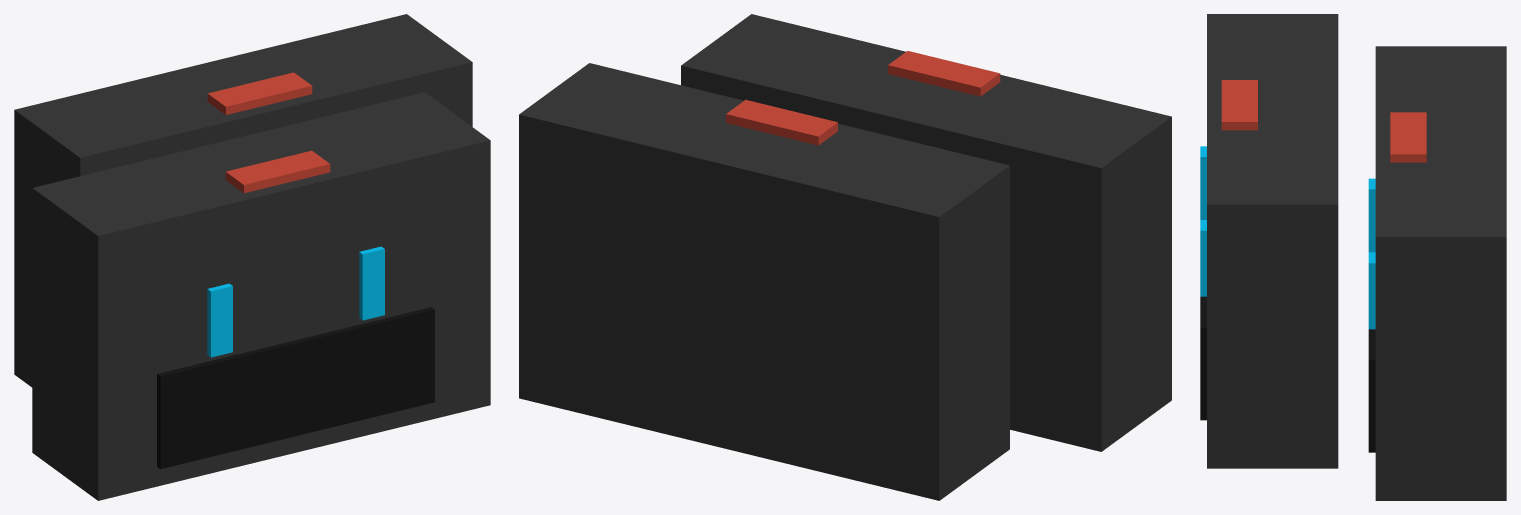
Rendered from ce_ammo2_railhc_sabot_b.obj.
3 views of the same model, side by side, from view 1: azimuth 30°, elevation 25°; view 2: azimuth 150°, elevation 25°; view 3: azimuth 270°, elevation 25° (orthographic). The views are drawn at different scales.
Parts seen in each view (by area): view 1: ce_ammo2_railhc_sabot_b_5, ce_ammo2_railhc_sabot_b_0, ce_ammo2_railhc_sabot_b_7, ce_ammo2_railhc_sabot_b_1, ce_ammo2_railhc_sabot_b_6, ce_ammo2_railhc_sabot_b_9, ce_ammo2_railhc_sabot_b_8; view 2: ce_ammo2_railhc_sabot_b_0, ce_ammo2_railhc_sabot_b_5, ce_ammo2_railhc_sabot_b_6, ce_ammo2_railhc_sabot_b_1; view 3: ce_ammo2_railhc_sabot_b_0, ce_ammo2_railhc_sabot_b_5, ce_ammo2_railhc_sabot_b_1, ce_ammo2_railhc_sabot_b_6, ce_ammo2_railhc_sabot_b_2, ce_ammo2_railhc_sabot_b_7, ce_ammo2_railhc_sabot_b_4, ce_ammo2_railhc_sabot_b_3, ce_ammo2_railhc_sabot_b_9, ce_ammo2_railhc_sabot_b_8.
Boxes of the visible parts, bbox=[...] form: ce_ammo2_railhc_sabot_b_5: bbox=[32, 92, 490, 500]; ce_ammo2_railhc_sabot_b_0: bbox=[14, 14, 472, 387]; ce_ammo2_railhc_sabot_b_7: bbox=[157, 307, 434, 469]; ce_ammo2_railhc_sabot_b_1: bbox=[207, 72, 312, 114]; ce_ammo2_railhc_sabot_b_6: bbox=[225, 150, 330, 193]; ce_ammo2_railhc_sabot_b_9: bbox=[359, 246, 384, 320]; ce_ammo2_railhc_sabot_b_8: bbox=[207, 283, 232, 357]; ce_ammo2_railhc_sabot_b_0: bbox=[519, 63, 1009, 500]; ce_ammo2_railhc_sabot_b_5: bbox=[681, 14, 1171, 451]; ce_ammo2_railhc_sabot_b_6: bbox=[888, 51, 1000, 96]; ce_ammo2_railhc_sabot_b_1: bbox=[726, 99, 837, 145]; ce_ammo2_railhc_sabot_b_0: bbox=[1375, 46, 1506, 500]; ce_ammo2_railhc_sabot_b_5: bbox=[1207, 14, 1338, 468]; ce_ammo2_railhc_sabot_b_1: bbox=[1390, 112, 1426, 162]; ce_ammo2_railhc_sabot_b_6: bbox=[1221, 80, 1257, 130]; ce_ammo2_railhc_sabot_b_2: bbox=[1368, 329, 1375, 452]; ce_ammo2_railhc_sabot_b_7: bbox=[1200, 296, 1206, 420]; ce_ammo2_railhc_sabot_b_4: bbox=[1368, 252, 1375, 329]; ce_ammo2_railhc_sabot_b_3: bbox=[1368, 178, 1375, 252]; ce_ammo2_railhc_sabot_b_9: bbox=[1200, 220, 1206, 296]; ce_ammo2_railhc_sabot_b_8: bbox=[1200, 146, 1206, 219].
Bounding box in the file's own units: 0.689 × 0.392 × 0.4.
